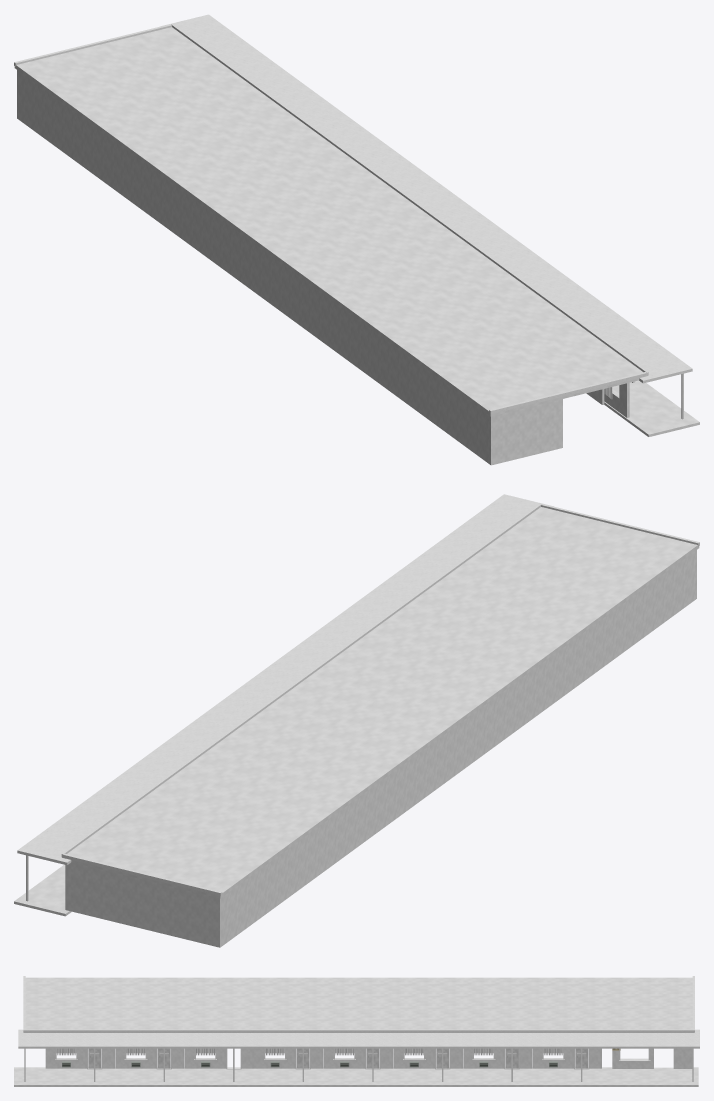
Rendered from SM_Town_Motel_Shell.glb.
3 views of the same model, one above another, from view 1: azimuth 30°, elevation 25°; view 2: azimuth 150°, elevation 25°; view 3: azimuth 270°, elevation 25° (orthographic). The views are drawn at different scales.
Visible parts, largest first — view 1: SM_Town_Motel_Shell; view 2: SM_Town_Motel_Shell; view 3: SM_Town_Motel_Shell.
Part boxes in pixels (x1,y1,x2,y2): SM_Town_Motel_Shell: (14, 14, 699, 465); SM_Town_Motel_Shell: (14, 494, 699, 947); SM_Town_Motel_Shell: (14, 976, 699, 1086).
Bounding box in the file's own units: 11.85 × 3.27 × 49.3.
11 materials, 8 textured.
